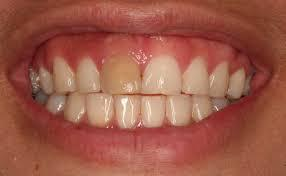Discoloration: (100, 55, 142, 95)
